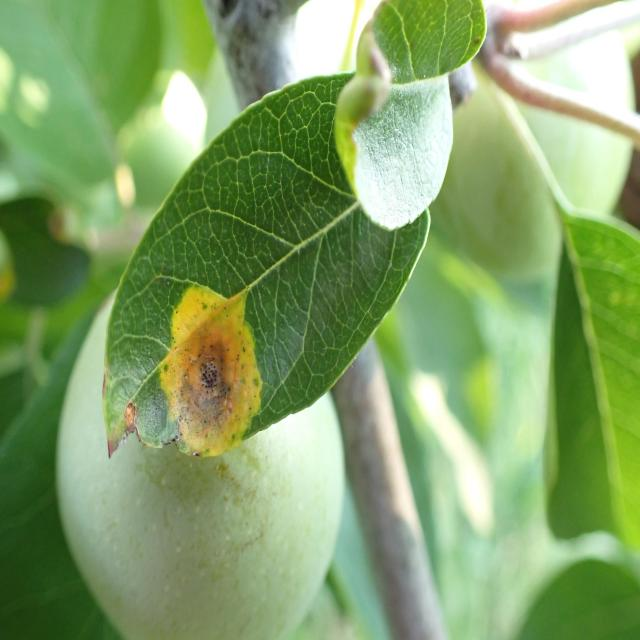Rust: (156, 273, 275, 477)
